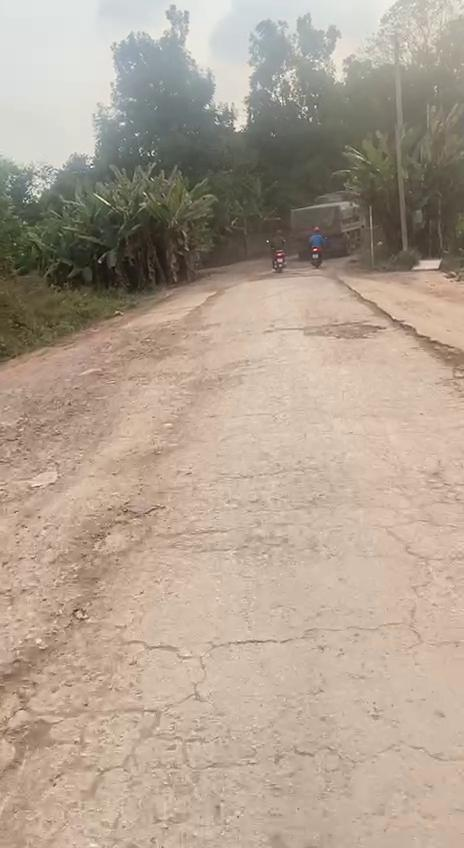pothole: (0, 640, 78, 770), (302, 320, 386, 342)
